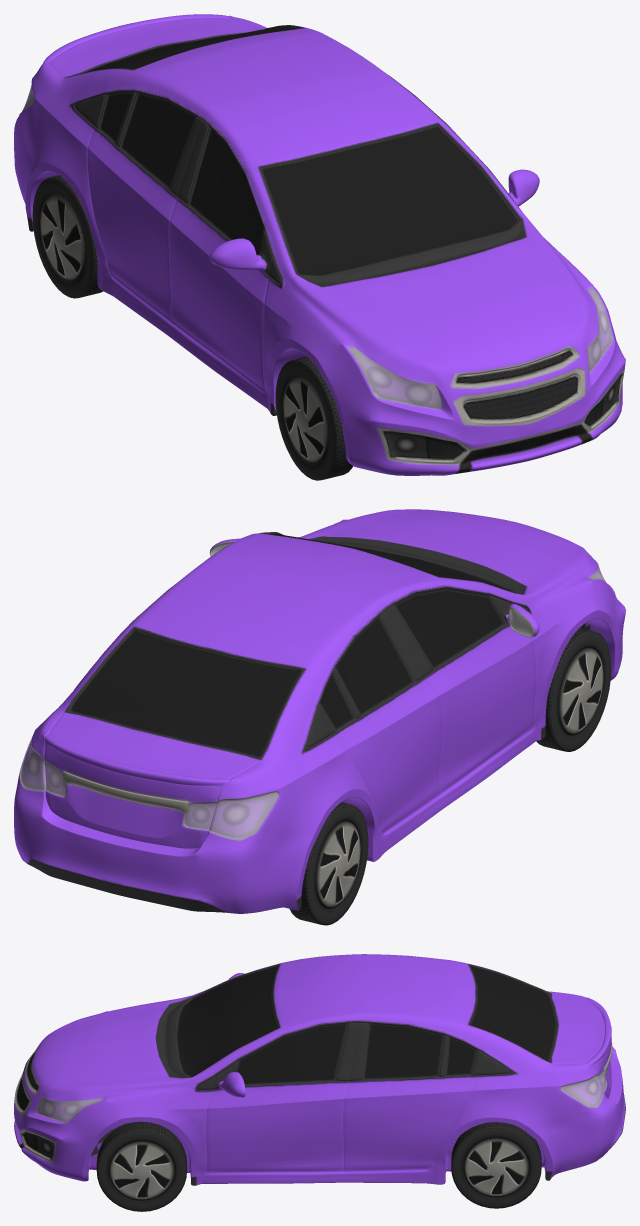
Rendered from Cruze Purple Z Smooth Scale.FBX.
The picture shows the model from 3 angles, top to bottom: view 1: azimuth 30°, elevation 25°; view 2: azimuth 150°, elevation 25°; view 3: azimuth 270°, elevation 25°; orthographic projection. The views are drawn at different scales.
Visible parts, largest first — view 1: Complete Model, BL003, BL002; view 2: Complete Model, BL003, BL002; view 3: Complete Model, BL001, BL.
Boxes of the visible parts, x1=… form: Complete Model: x1=14, y1=14, x2=625, y2=475; BL003: x1=275, y1=356, x2=352, y2=480; BL002: x1=32, y1=175, x2=102, y2=298; Complete Model: x1=14, y1=509, x2=625, y2=913; BL003: x1=536, y1=628, x2=611, y2=751; BL002: x1=289, y1=802, x2=368, y2=925; Complete Model: x1=14, y1=954, x2=625, y2=1185; BL001: x1=96, y1=1122, x2=187, y2=1211; BL: x1=451, y1=1122, x2=541, y2=1208.
Bounding box in the file's own units: 2.19 × 1.58 × 4.85.
